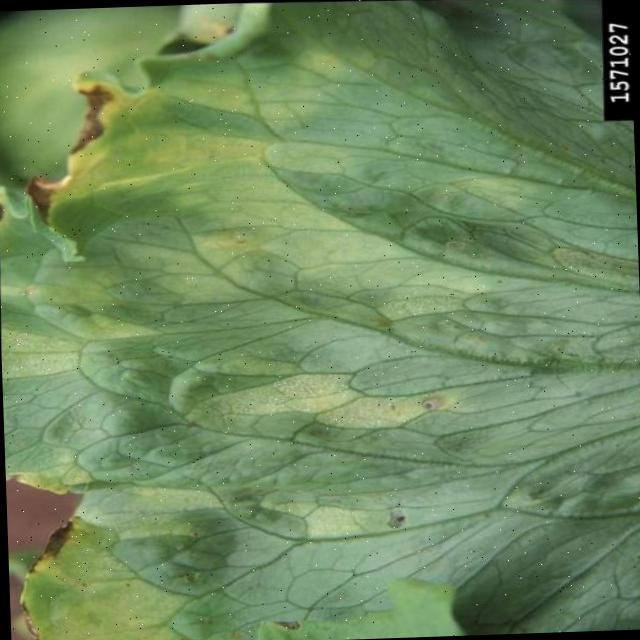Downy_mildew_on_lettuce: (12, 38, 228, 280)
Powdery_mildew_on_lettuce: (202, 335, 459, 459)
